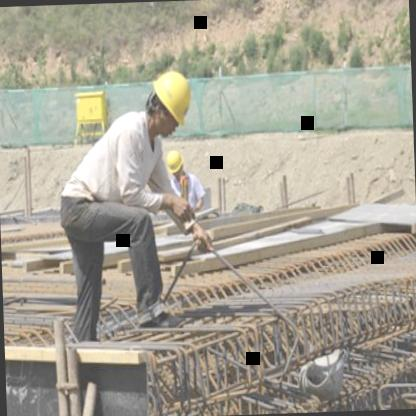helmet: (138, 63, 198, 142), (162, 146, 186, 184)
